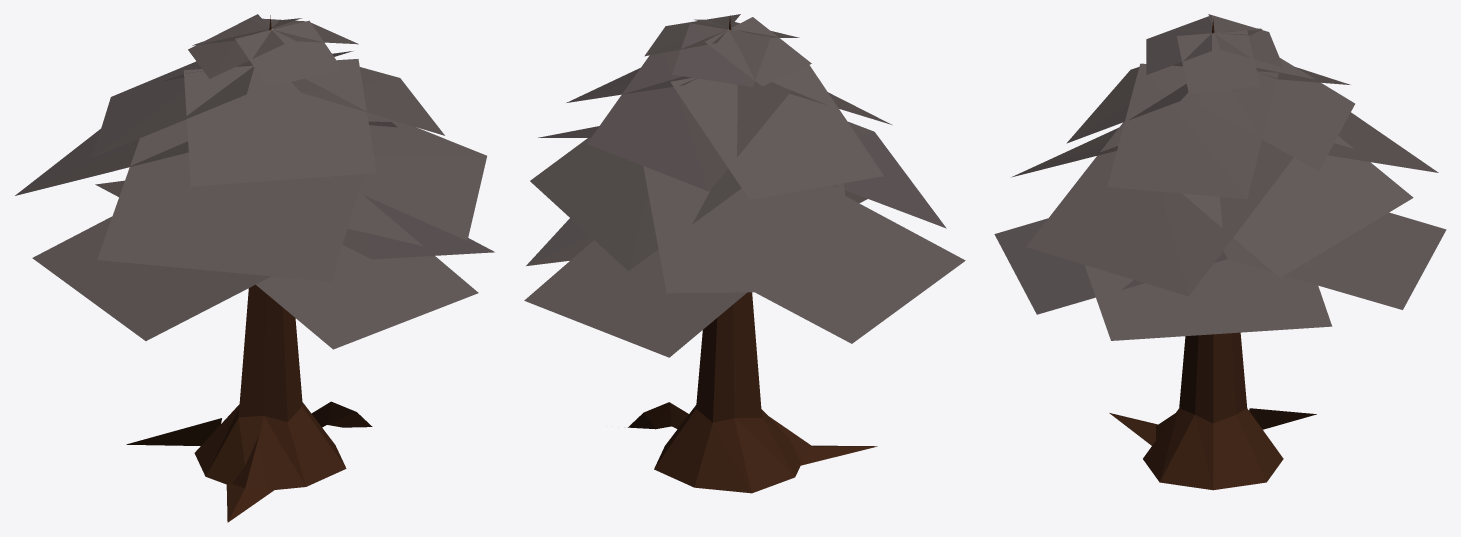
File: obj_yew_0.obj
3 renders of one model, left to right at view 1: azimuth 30°, elevation 25°; view 2: azimuth 150°, elevation 25°; view 3: azimuth 270°, elevation 25°, orthographic.
Bounding box in the file's own units: 2.93 × 3.12 × 2.91.
